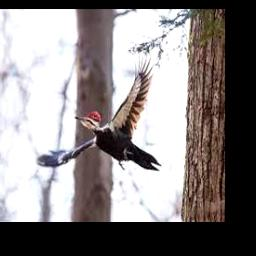Woodpecker: (36, 55, 161, 170)
